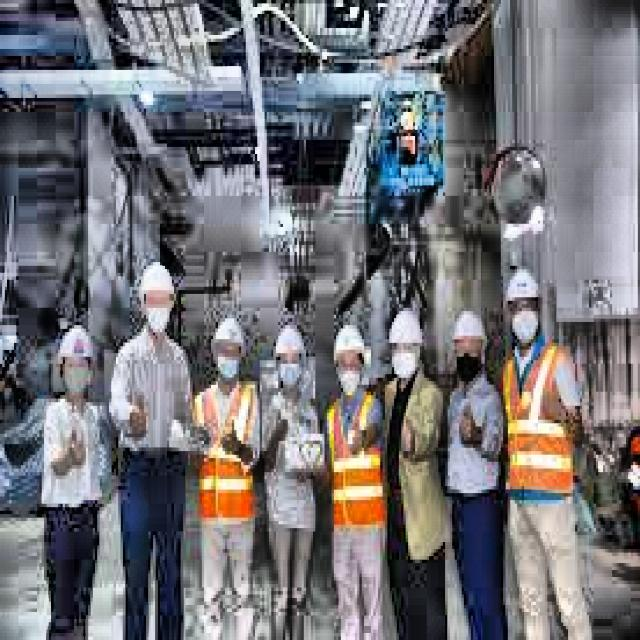safety_helmet: (329, 318, 371, 402), (137, 259, 178, 339), (209, 311, 250, 388), (385, 305, 427, 358), (499, 262, 541, 310), (56, 322, 97, 367), (450, 304, 489, 346), (276, 317, 308, 363)
safety_jacket: (498, 339, 580, 504), (190, 378, 264, 528), (326, 398, 386, 528)
